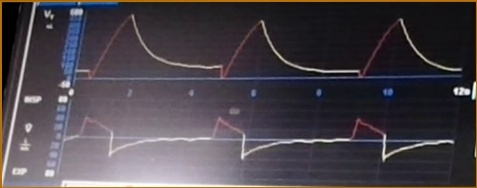Flow: (69, 107, 447, 175)
Leakage Volume: (83, 11, 456, 84)
